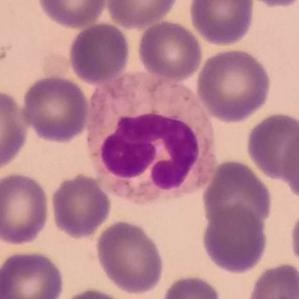Neutrophil: (83, 70, 219, 204)
RBC: (194, 46, 274, 124), (93, 218, 166, 296), (200, 157, 274, 233), (18, 73, 92, 144), (199, 204, 271, 275), (136, 18, 204, 83), (48, 171, 113, 239), (67, 21, 132, 85), (0, 170, 52, 248), (244, 110, 299, 181), (0, 248, 66, 299), (187, 0, 256, 47), (0, 86, 31, 174), (104, 0, 181, 29), (35, 0, 110, 29), (245, 260, 299, 299), (279, 120, 299, 205), (159, 273, 224, 299), (57, 286, 131, 299), (288, 204, 299, 277), (241, 0, 299, 9)
